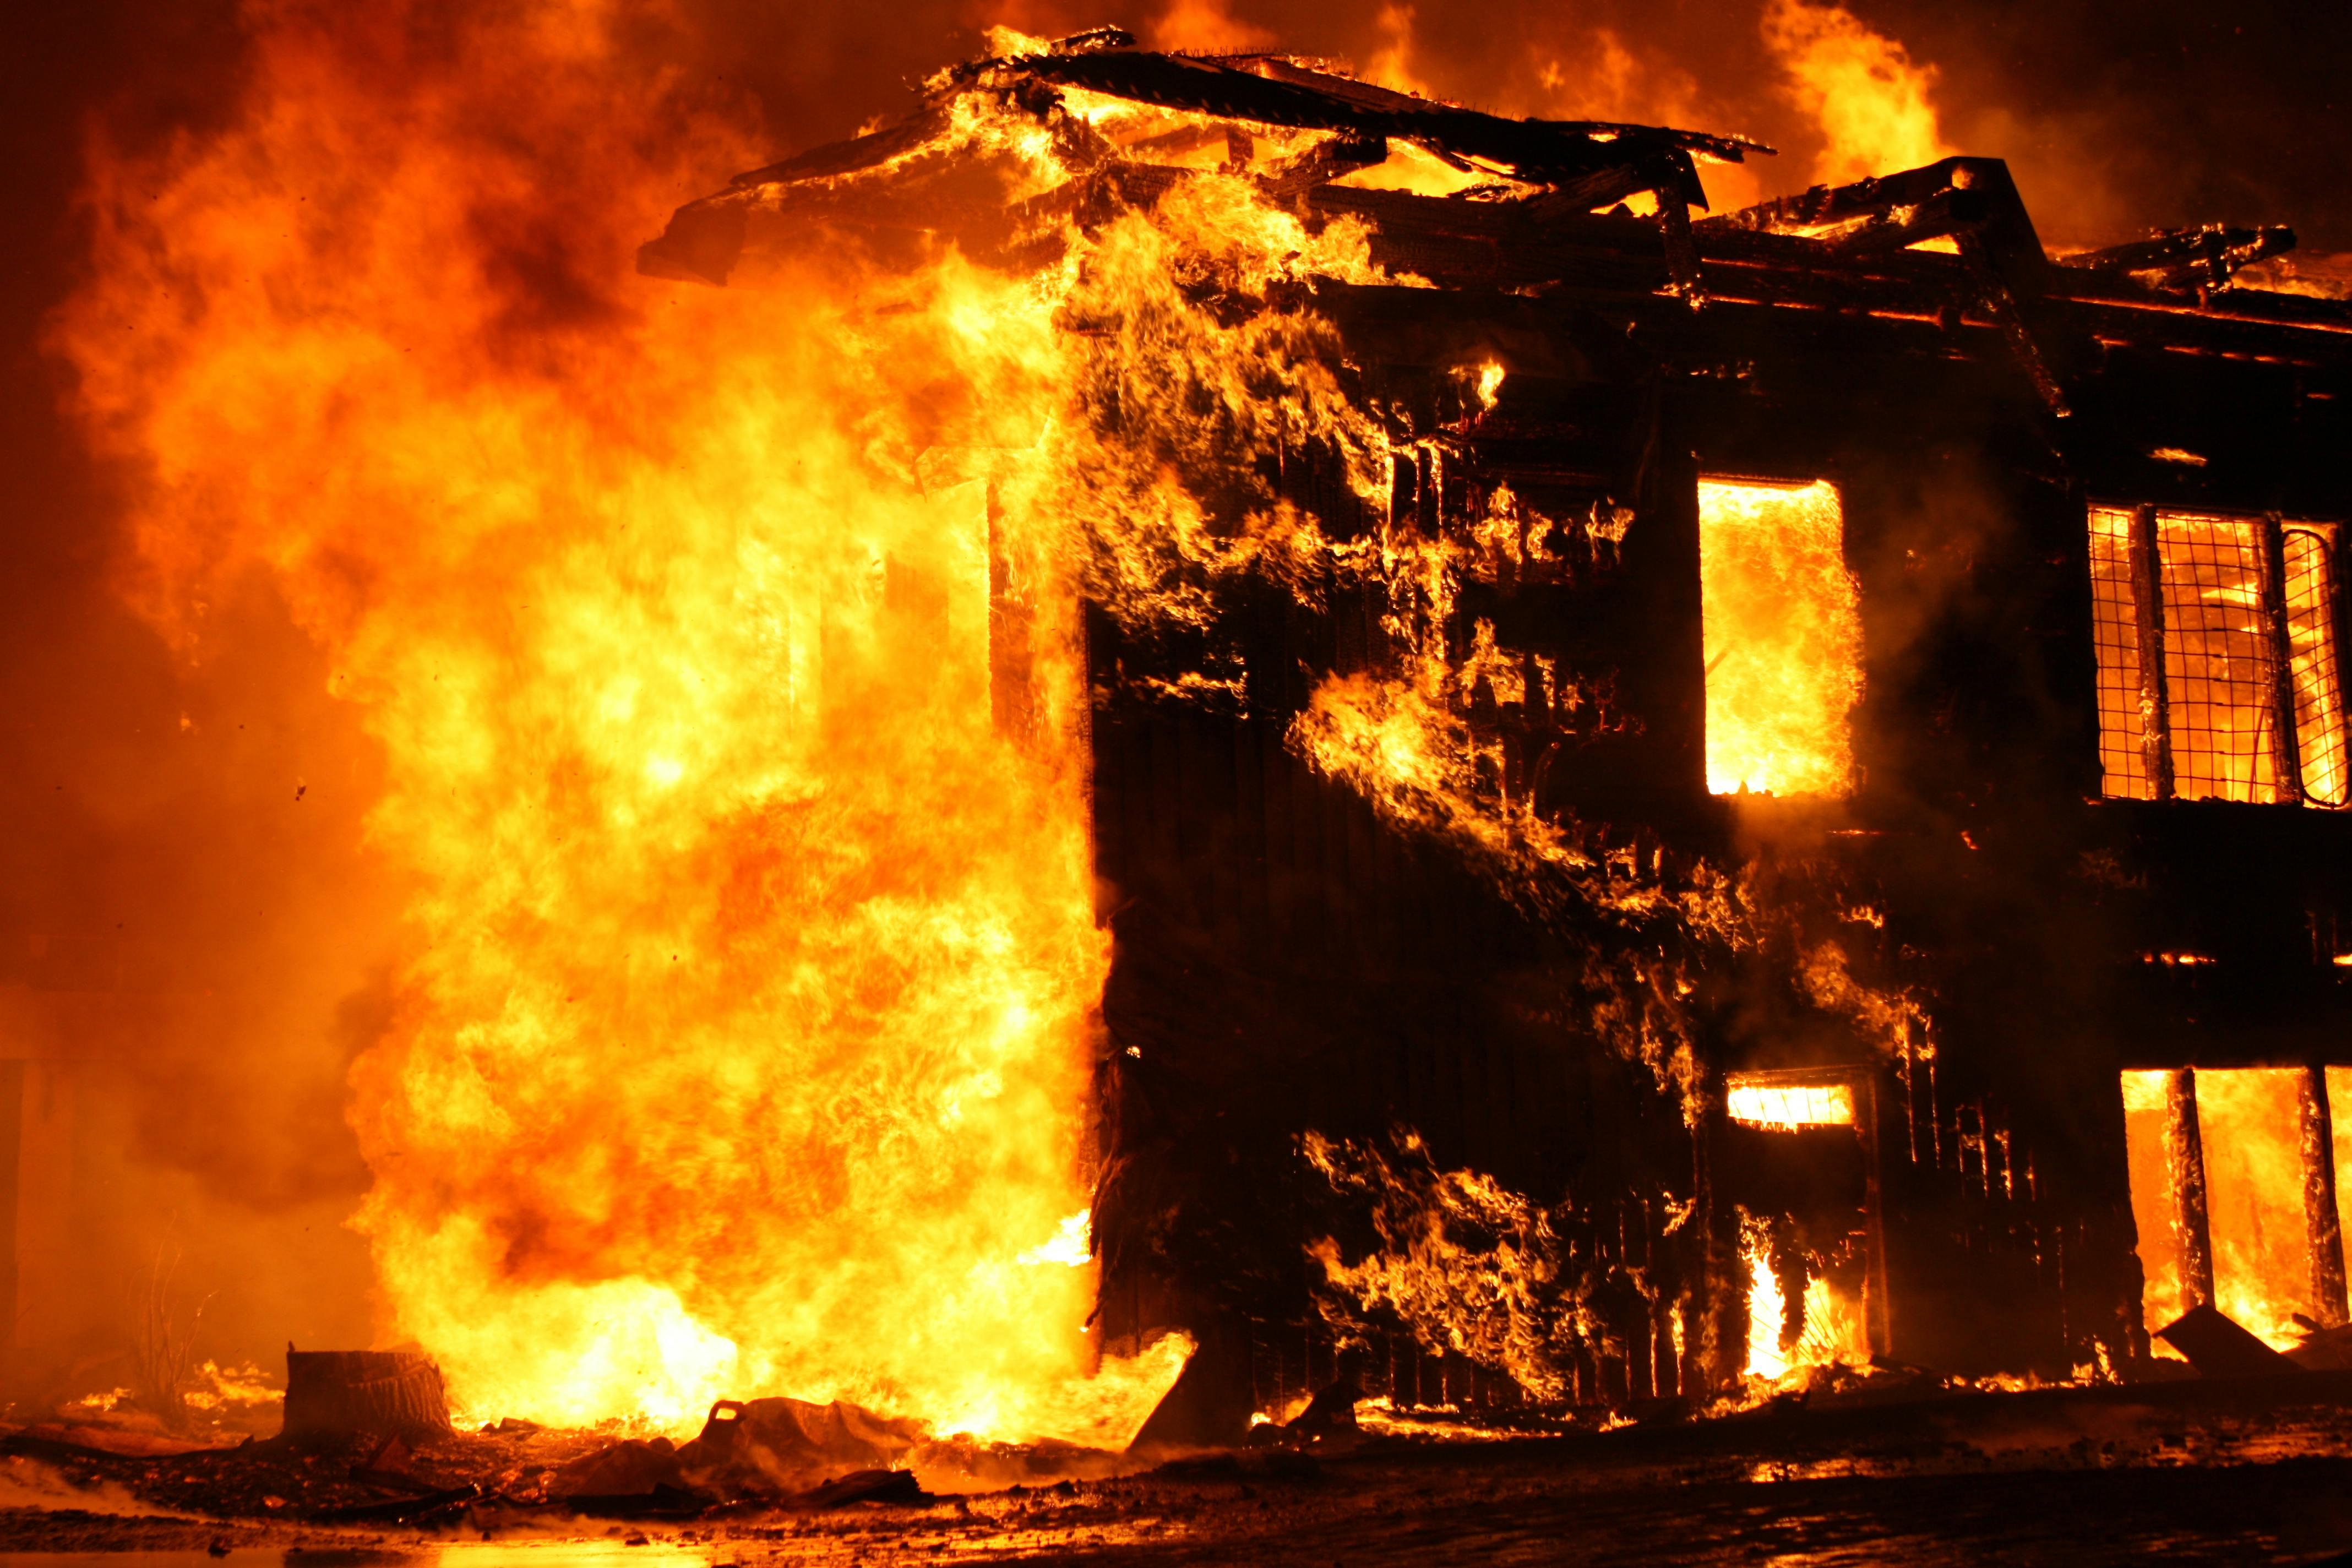smoke: (409, 37, 1127, 1452), (994, 49, 1610, 845), (1291, 1137, 1879, 1470), (1533, 859, 2033, 1192), (2089, 485, 2352, 831), (2100, 1062, 2352, 1365), (1687, 460, 1858, 801), (1785, 5, 1990, 268), (2128, 212, 2352, 324)
